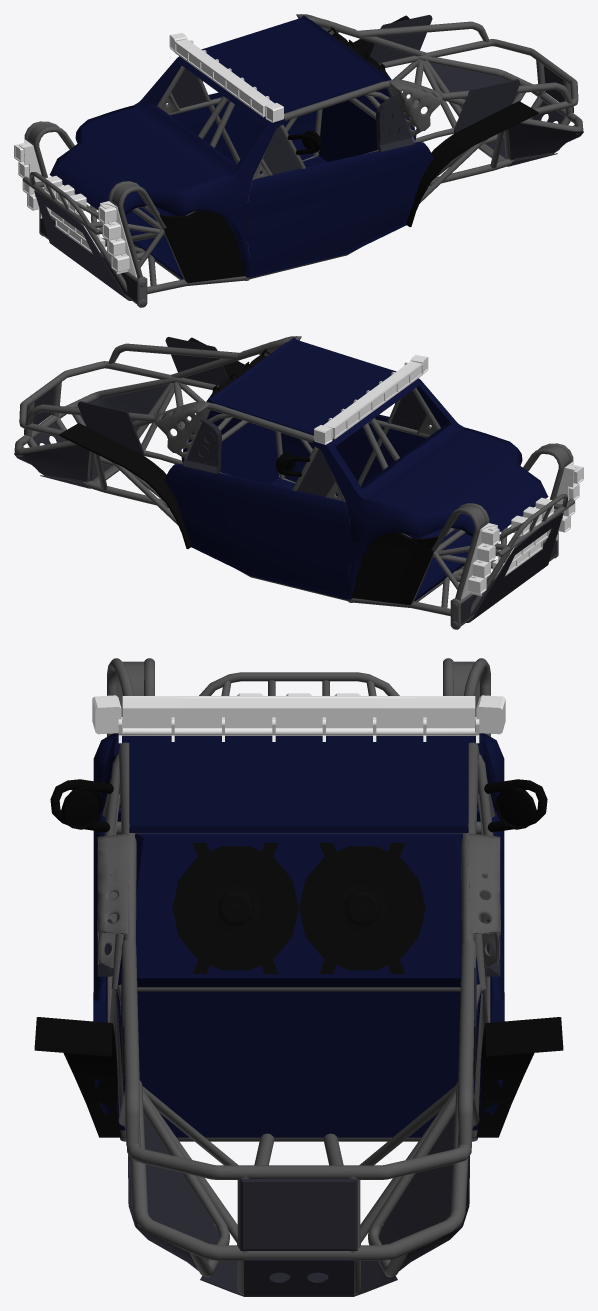
File: FrameTexture.obj
The picture shows the model from 3 angles, top to bottom: view 1: azimuth 30°, elevation 25°; view 2: azimuth 150°, elevation 25°; view 3: azimuth 270°, elevation 25°; orthographic projection. The views are drawn at different scales.
Parts seen in each view (by area): view 1: Subaru_Frame:Body, Subaru_Frame:RollCage, Subaru_Frame:Panels, Subaru_Frame:Fenders, Subaru_Frame:Lights, Subaru_Frame:Side_Mirrors; view 2: Subaru_Frame:Body, Subaru_Frame:RollCage, Subaru_Frame:Panels, Subaru_Frame:Fenders, Subaru_Frame:Lights, Subaru_Frame:Side_Mirrors; view 3: Subaru_Frame:Body, Subaru_Frame:RollCage, Subaru_Frame:Fans, Subaru_Frame:Panels, Subaru_Frame:Lights, Subaru_Frame:Fenders, Subaru_Frame:Side_Mirrors.
Part boxes in pixels (x1,y1,x2,y2): Subaru_Frame:Body: (49,15,433,283); Subaru_Frame:RollCage: (22,14,583,307); Subaru_Frame:Panels: (34,15,583,301); Subaru_Frame:Fenders: (125,15,538,282); Subaru_Frame:Lights: (14,33,284,277); Subaru_Frame:Side_Mirrors: (202,81,321,154); Subaru_Frame:Body: (164,337,548,605); Subaru_Frame:RollCage: (14,336,574,629); Subaru_Frame:Panels: (14,337,563,623); Subaru_Frame:Fenders: (59,337,472,604); Subaru_Frame:Lights: (313,355,583,599); Subaru_Frame:Side_Mirrors: (276,403,395,476); Subaru_Frame:Body: (93,733,504,1137); Subaru_Frame:RollCage: (97,658,500,1294); Subaru_Frame:Fans: (172,842,425,973); Subaru_Frame:Panels: (97,920,500,1296); Subaru_Frame:Lights: (92,693,505,743); Subaru_Frame:Fenders: (34,1017,563,1137); Subaru_Frame:Side_Mirrors: (50,779,547,832).
Size of the model in its own units: 24.15 by 7.65 by 10.84.
